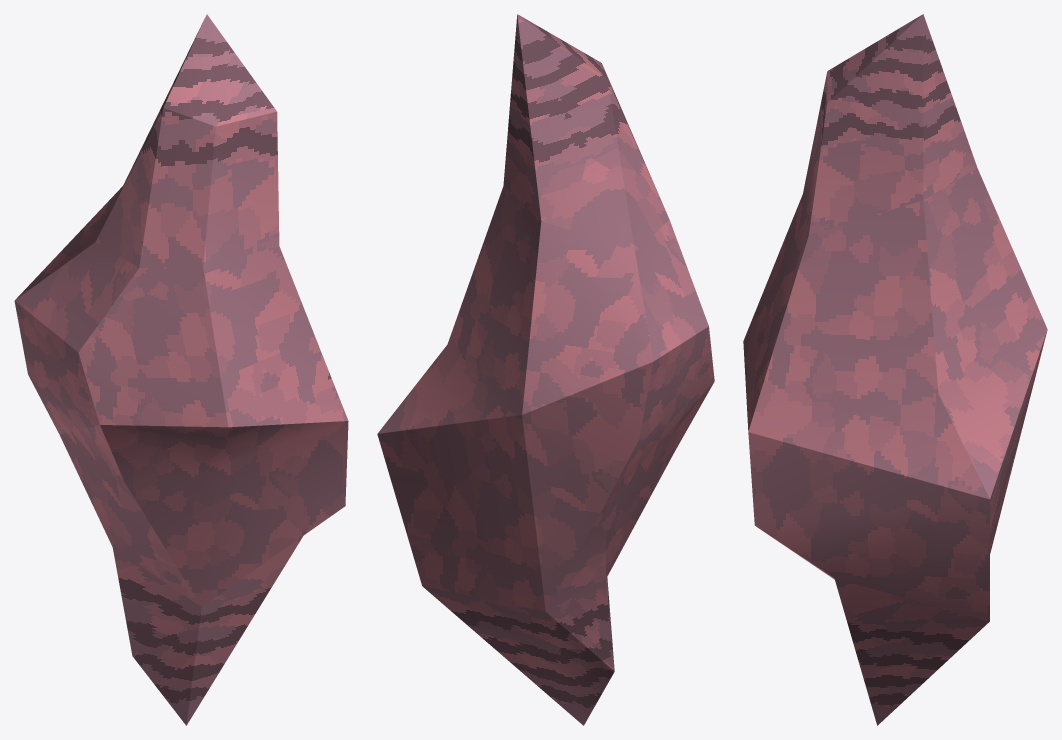
Rendered from 03af_The_Oni_Rock.glb.
3 views of the same model, side by side, from view 1: azimuth 30°, elevation 25°; view 2: azimuth 150°, elevation 25°; view 3: azimuth 270°, elevation 25° (orthographic). The views are drawn at different scales.
Visible parts, largest first — view 1: part_0; view 2: part_0; view 3: part_0.
Boxes of the visible parts, box(x1,y1,x2,y2) form: part_0: box(14, 14, 348, 725); part_0: box(377, 14, 714, 725); part_0: box(743, 14, 1047, 725).
Bounding box in the file's own units: 62.17 × 154 × 58.
1 material, 1 textured.
